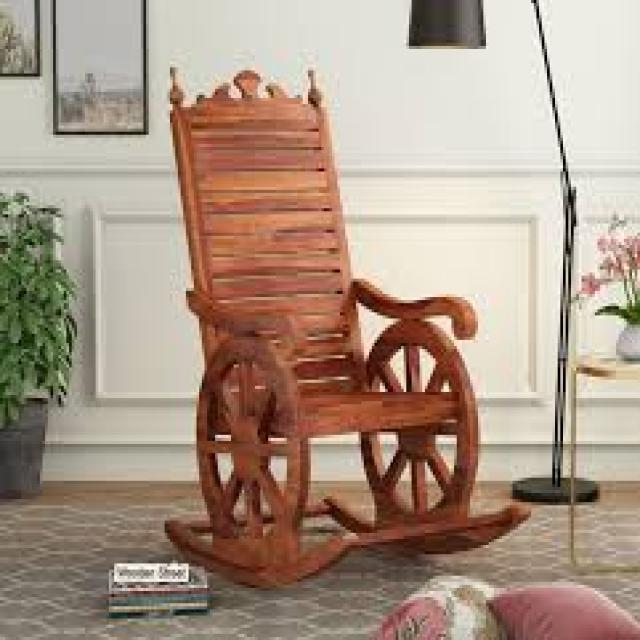chair: (84, 49, 548, 592)
